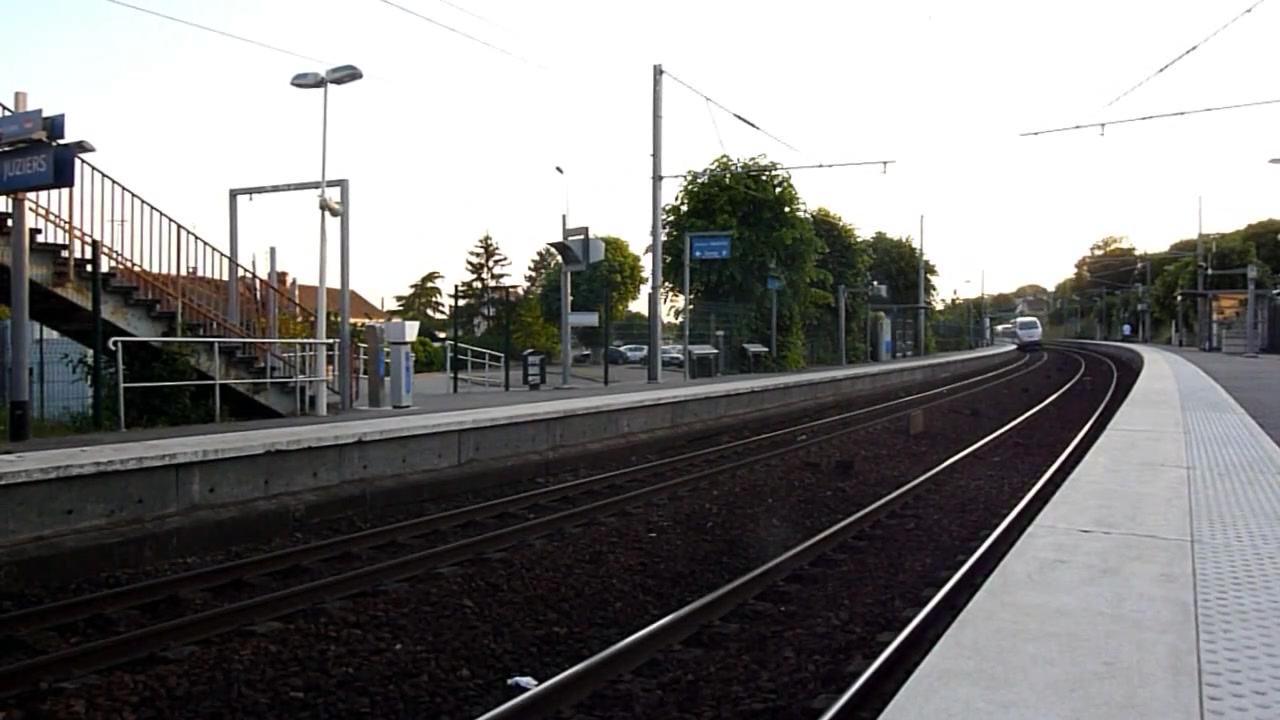train: (992, 317, 1048, 359)
